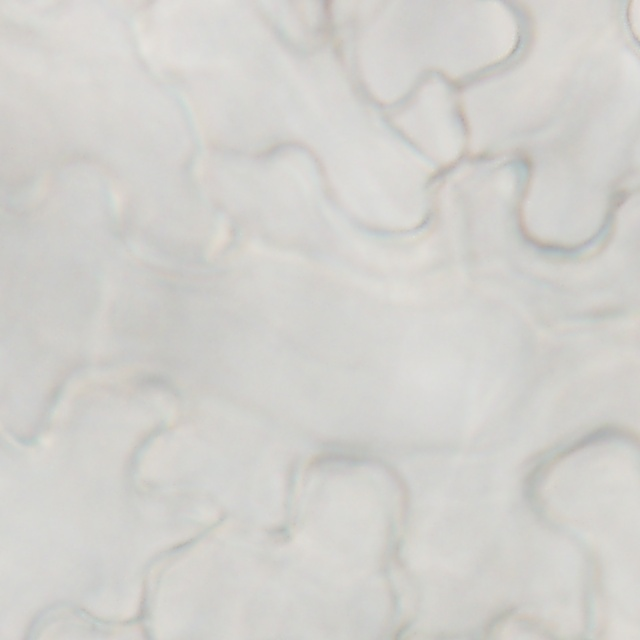center: (292, 24, 348, 32)
stomata-huw1: (258, 1, 382, 55)
